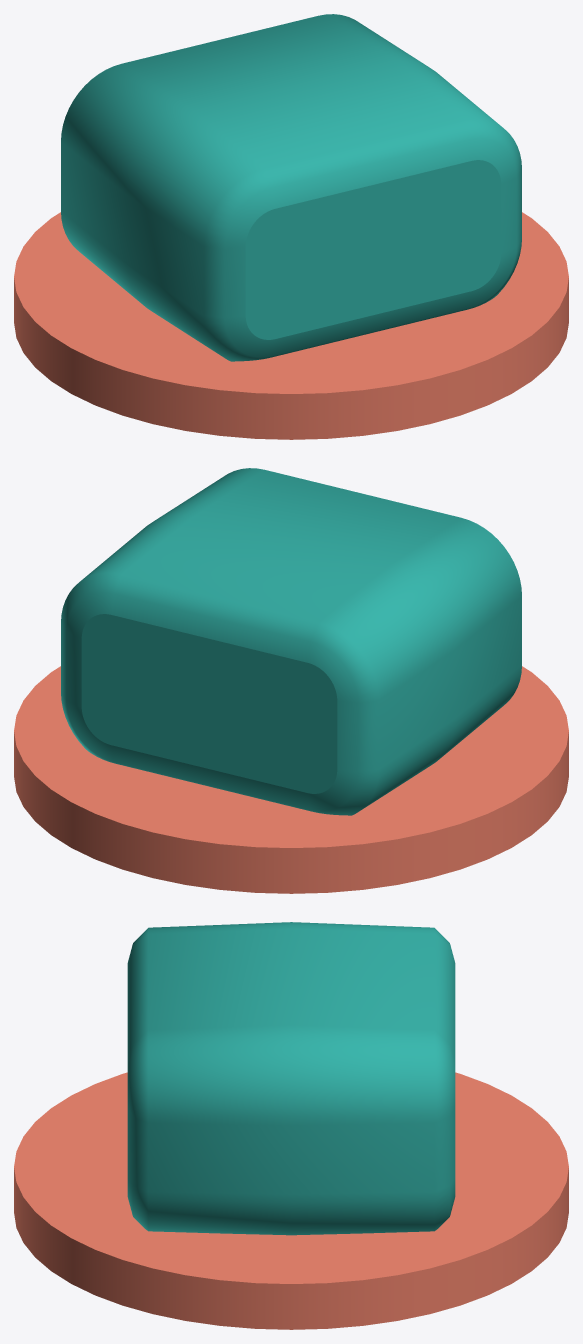
The model's file is accessory-hat.glb.
The picture shows the model from 3 angles, top to bottom: view 1: azimuth 30°, elevation 25°; view 2: azimuth 150°, elevation 25°; view 3: azimuth 270°, elevation 25°; orthographic projection.
Visible parts, largest first — view 1: hat-crown, hat-brim; view 2: hat-crown, hat-brim; view 3: hat-crown, hat-brim.
Part boxes in pixels (left/top/right/bottom): hat-crown: left=61, top=14, right=521, bottom=361; hat-brim: left=14, top=212, right=568, bottom=439; hat-crown: left=61, top=468, right=521, bottom=815; hat-brim: left=14, top=666, right=568, bottom=893; hat-crown: left=127, top=922, right=455, bottom=1235; hat-brim: left=14, top=1072, right=568, bottom=1329.
Bounding box in the file's own units: 1.1 × 0.515 × 1.1.
